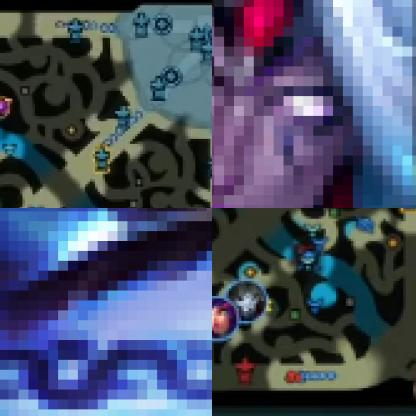Jhin: (226, 278, 269, 326)
Neeko: (212, 298, 240, 342)
Varus: (212, 0, 415, 207)
Xerath: (0, 208, 211, 415)
